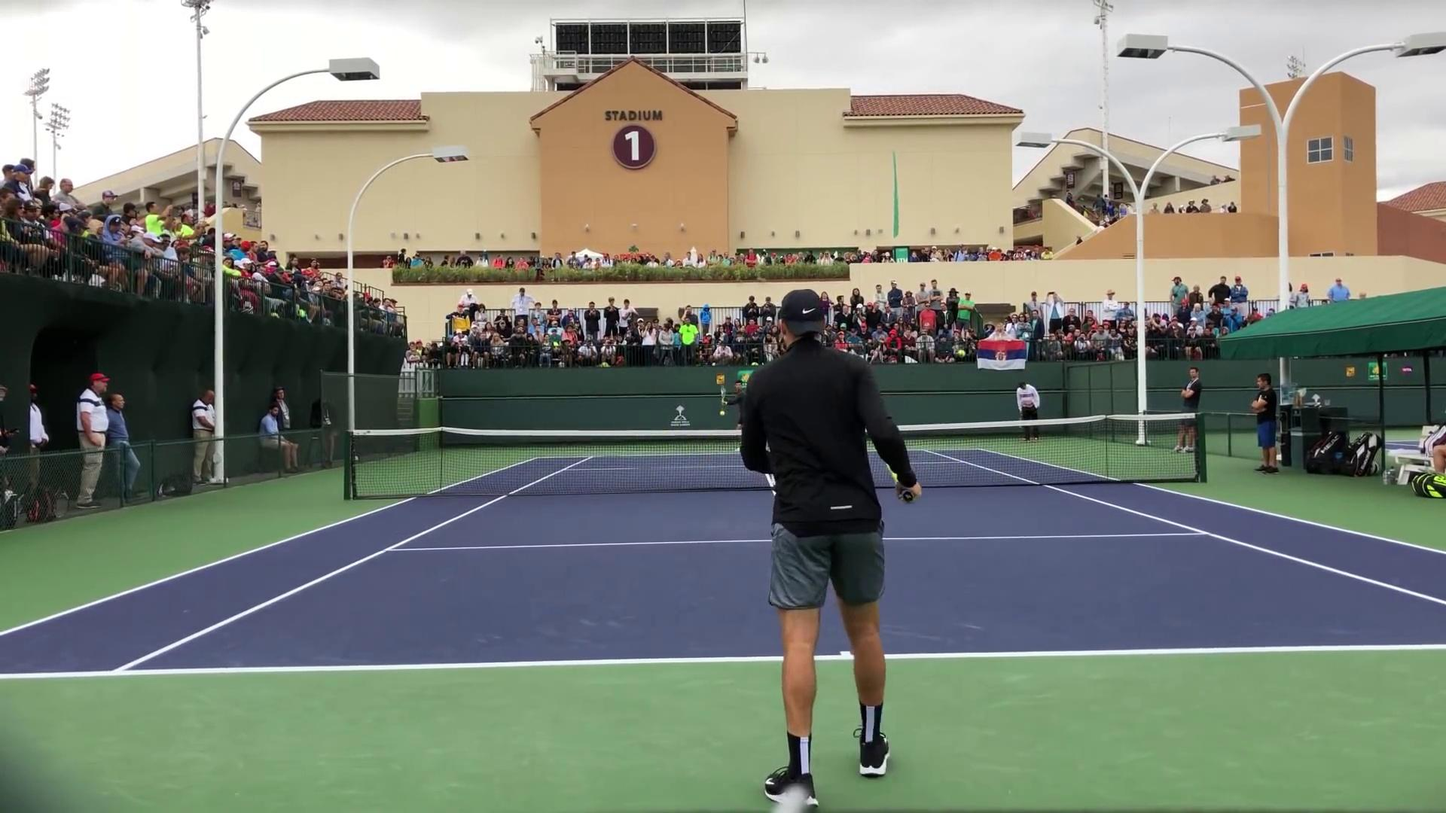ball: (714, 405, 729, 422)
